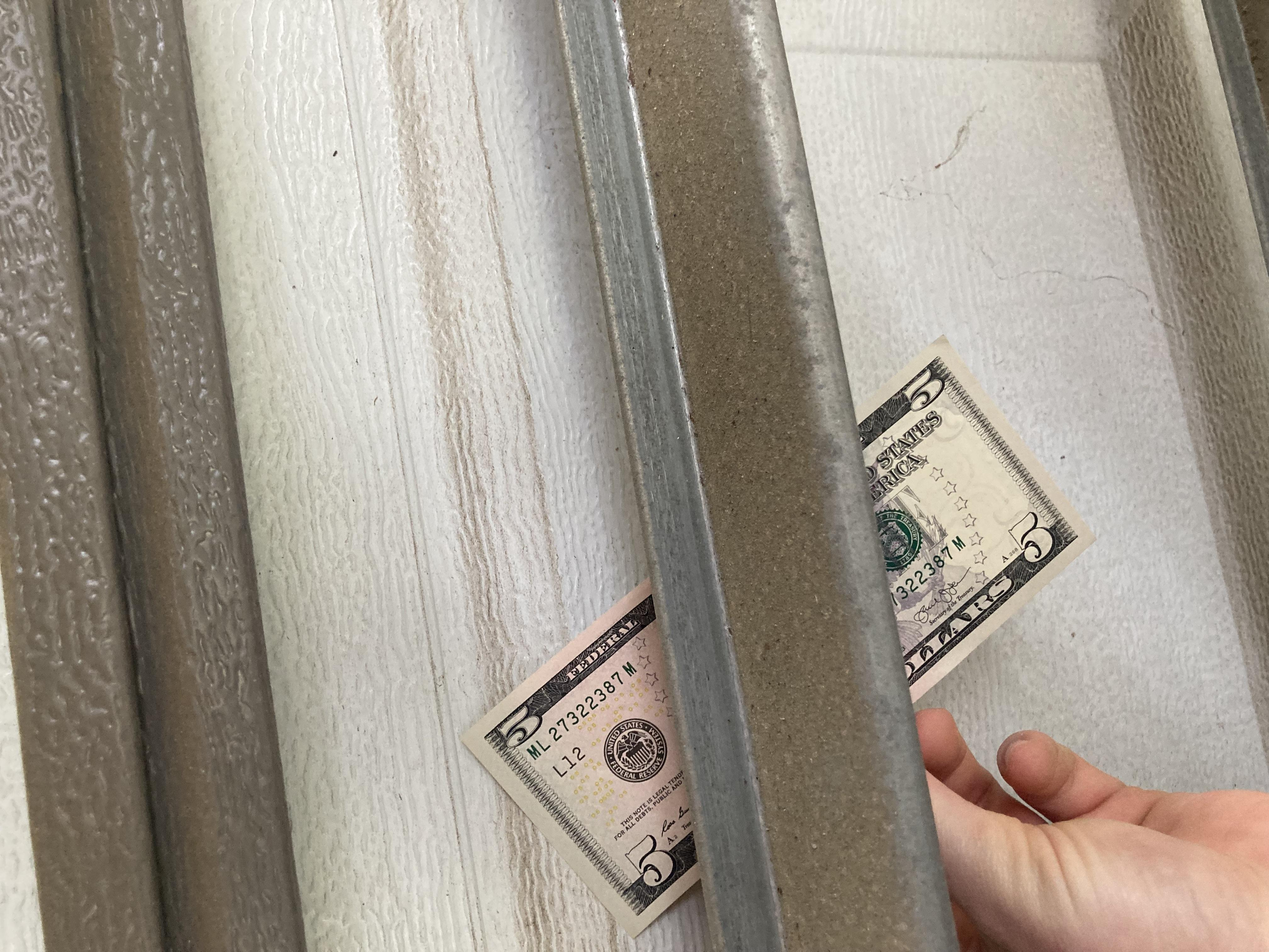five-front: (23, 343, 825, 825)
